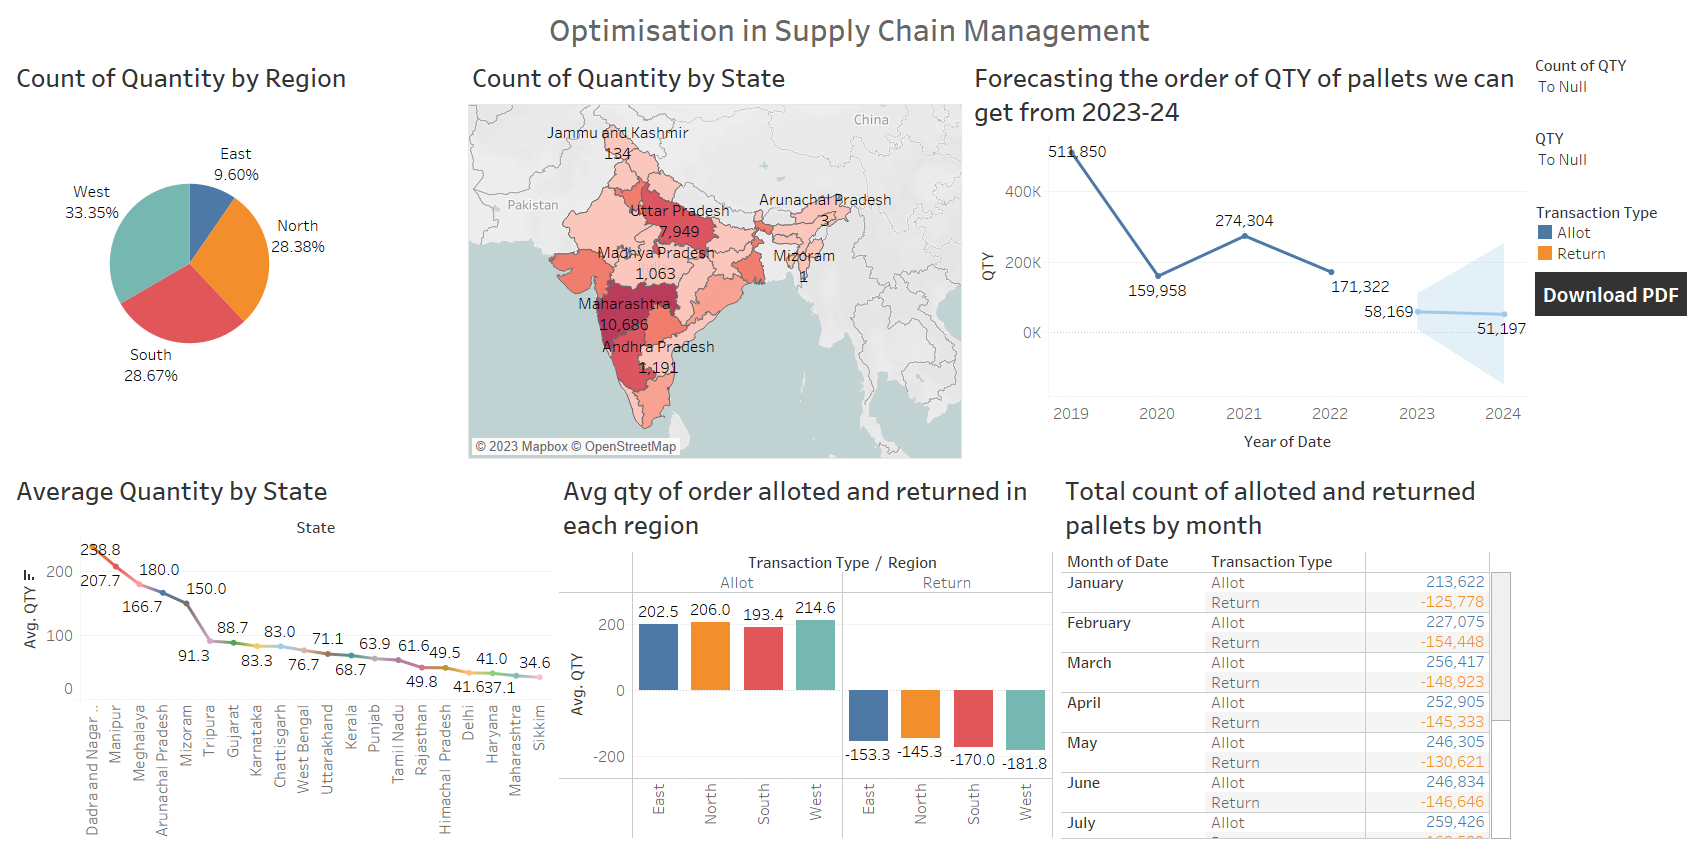

This screenshot's page, from the dashboard's own definition file:
{"tool":"tableau","page":{"name":"Dashboard 1","canvas":[1000,1000],"units":"permille","ordinal":0},"visuals":[{"type":"text","box":[4.7,9.4,990.6,49.3]},{"type":"worksheet","title":"Pie Chart","mark":"Pie","box":[4.7,58.7,268.6,472.4]},{"type":"worksheet","title":"MAP","mark":"Automatic","box":[273.3,58.7,348.8,472.4]},{"type":"worksheet","title":"Forecasting","mark":"Automatic","rows":["QTY"],"cols":["Date"],"box":[622.1,58.7,279,472.4]},{"type":"filter","title":"MAP","param":"[federated.100toro161owgl14qrjc51yj6tuq].[cnt:QTY:qk]","box":[901.1,58.7,94.2,85.8]},{"type":"filter","title":"Table","param":"[federated.100toro161owgl14qrjc51yj6tuq].[sum:QTY:qk]","box":[901.1,144.5,94.2,85.8]},{"type":"legend","title":"Table","param":"[federated.100toro161owgl14qrjc51yj6tuq].[none:Transaction_Type:nk]","box":[901.1,230.3,94.2,84.6]},{"type":"dashboard-object","box":[901.1,314.9,94.2,61.1]},{"type":"worksheet","title":"Line Chart","mark":"Line","rows":["QTY"],"cols":["State"],"box":[4.7,531.1,321.9,459.5]},{"type":"worksheet","title":"Bar plot","mark":"Bar","rows":["QTY"],"cols":["Transaction_Type","Region"],"box":[326.6,531.1,295.4,459.5]},{"type":"worksheet","title":"Table","mark":"Automatic","rows":["Date","Transaction_Type"],"box":[622,531.1,279.1,459.5]}]}

Visuals, with their boxes on the dashboard's canvas, which has no fixed pixel size, in thousandths of its width and height (x1, y1, x2, y2). These are canvas units, not pixel positions in the 1699x851 screenshot, which may show the page scaled, cropped or inside an application window:
text: select_region(5, 9, 995, 59)
"Pie Chart" worksheet (Pie marks): select_region(5, 59, 273, 531)
"MAP" worksheet: select_region(273, 59, 622, 531)
"Forecasting" worksheet: select_region(622, 59, 901, 531)
"MAP" filter: select_region(901, 59, 995, 144)
"Table" filter: select_region(901, 144, 995, 230)
"Table" legend: select_region(901, 230, 995, 315)
dashboard-object: select_region(901, 315, 995, 376)
"Line Chart" worksheet (Line marks): select_region(5, 531, 327, 991)
"Bar plot" worksheet (Bar marks): select_region(327, 531, 622, 991)
"Table" worksheet: select_region(622, 531, 901, 991)
